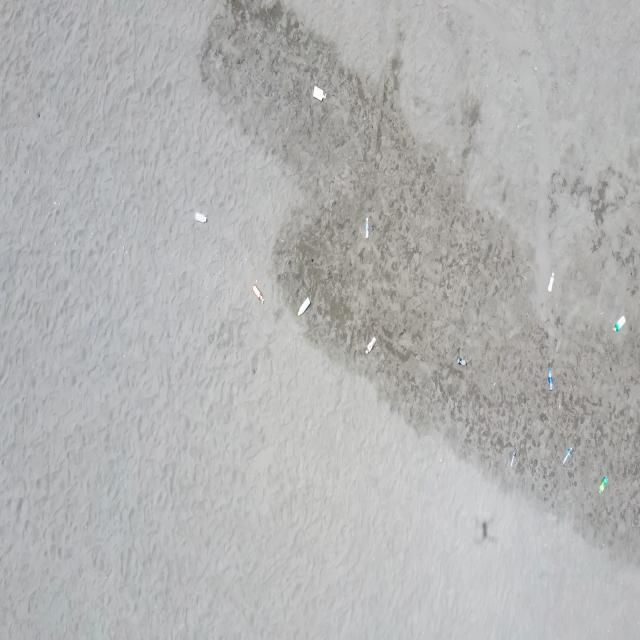plastic-bottle: (296, 296, 312, 316), (312, 84, 328, 103), (612, 315, 627, 335), (365, 334, 377, 356), (251, 283, 264, 303), (194, 210, 210, 224), (598, 474, 608, 496), (562, 446, 573, 466), (546, 367, 554, 392), (509, 446, 518, 468), (546, 271, 554, 293), (364, 217, 370, 240), (457, 355, 468, 367)
